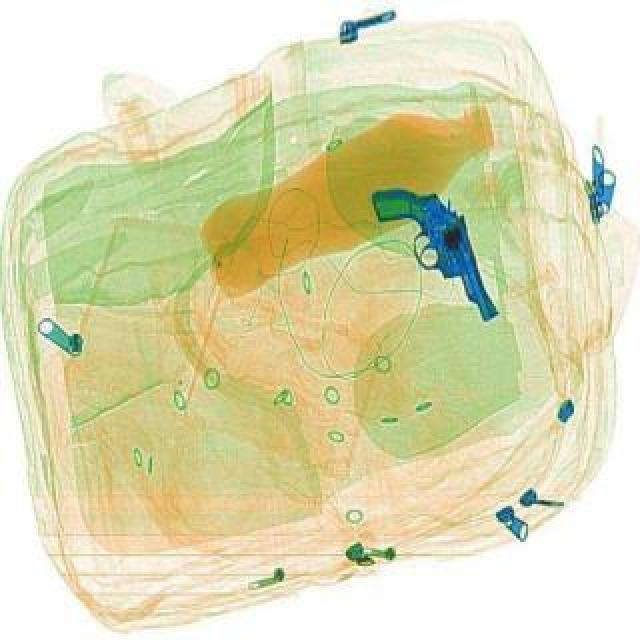gun: (360, 158, 528, 328)
